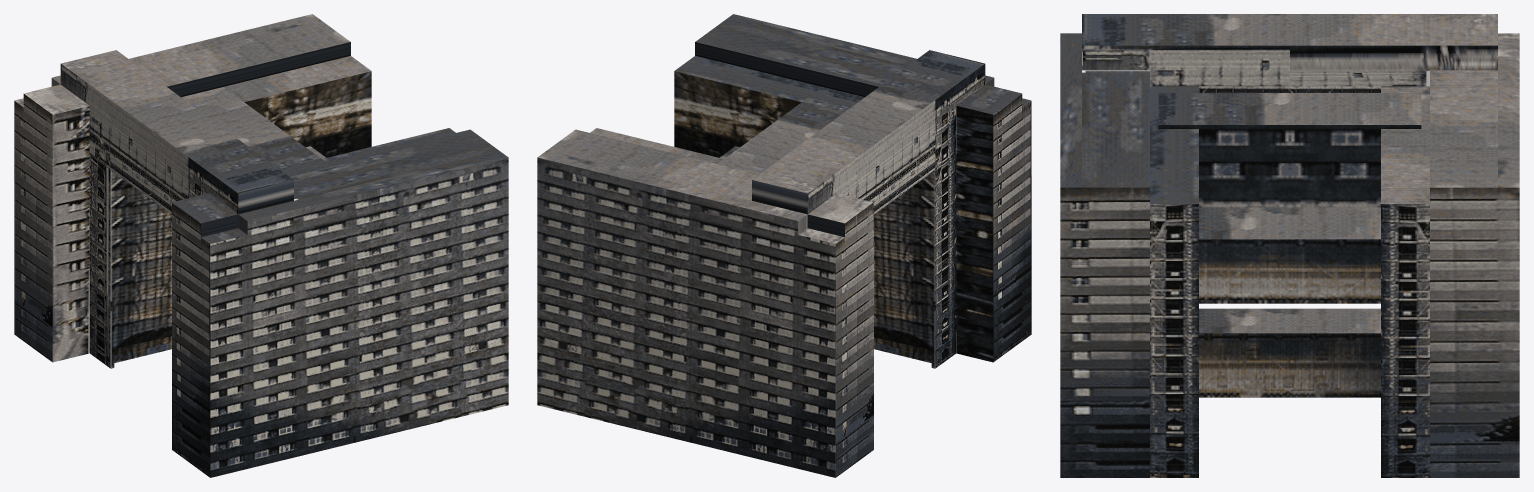
The model's file is buildingcamebdrige.fbx.
3 renders of one model, left to right at view 1: azimuth 30°, elevation 25°; view 2: azimuth 150°, elevation 25°; view 3: azimuth 270°, elevation 25°, orthographic. The views are drawn at different scales.
Visible parts, largest first — view 1: Cube.501; view 2: Cube.501; view 3: Cube.501.
Boxes of the visible parts, <box> form: Cube.501: <box>14,14,508,477</box>; Cube.501: <box>537,14,1031,477</box>; Cube.501: <box>1060,14,1519,477</box>.
Bounding box in the file's own units: 5553 × 4780 × 6322.
